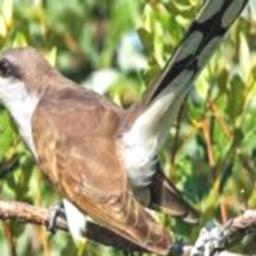Cuckoo: (0, 0, 256, 254)
